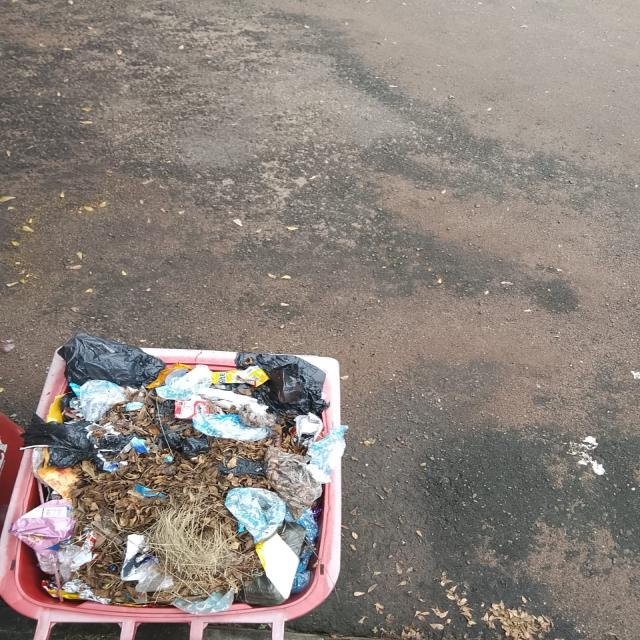full: (6, 343, 350, 621)
